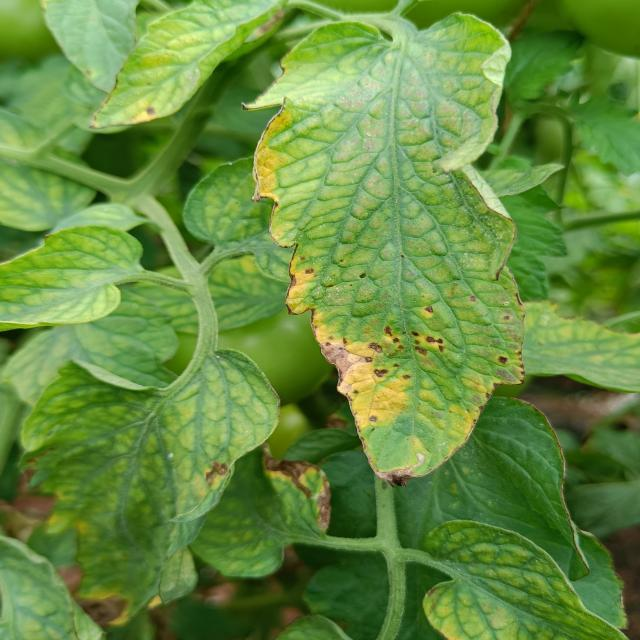Tomato mosaic virus leaf: (248, 19, 532, 493)
